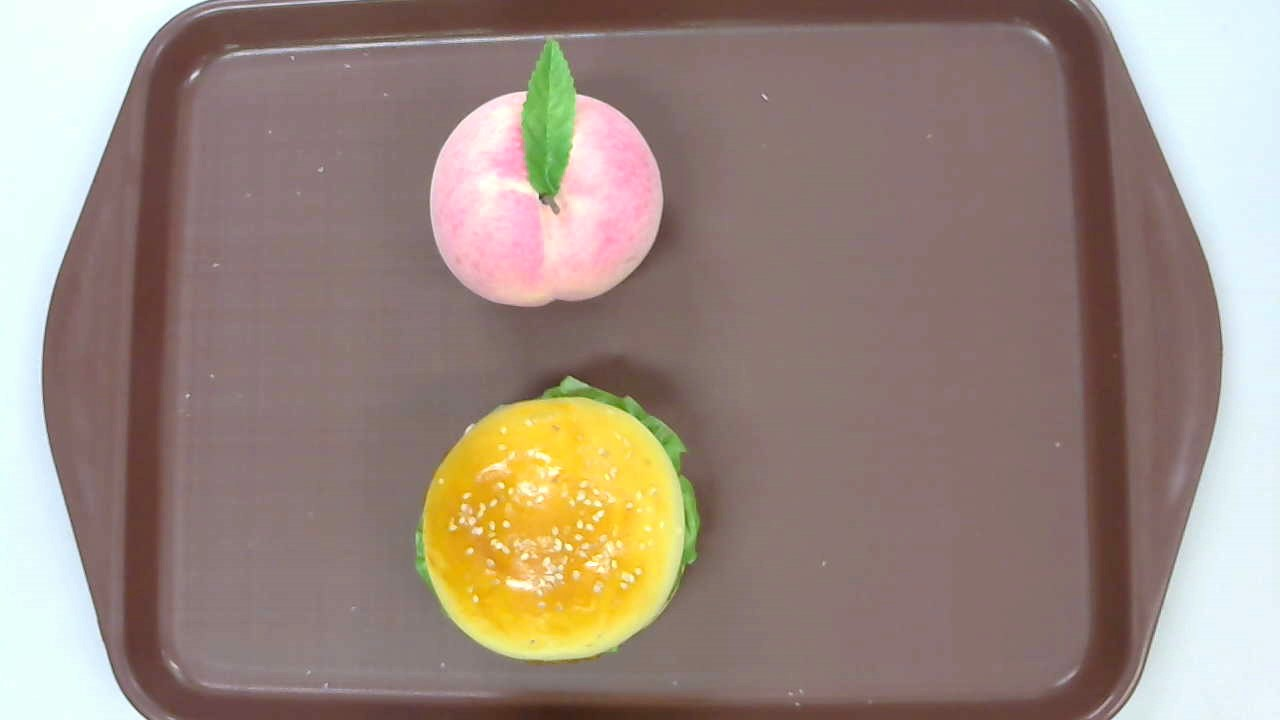hamburger: (414, 373, 702, 665)
peach: (428, 38, 664, 309)
